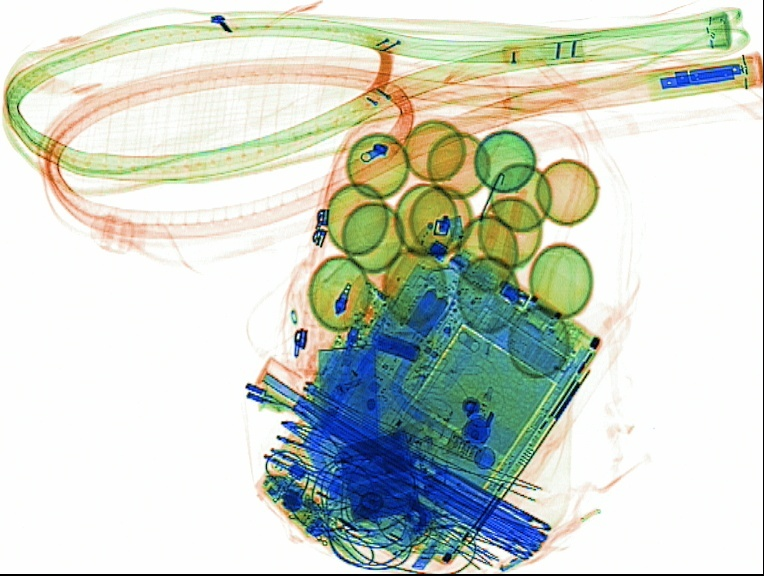powerbank: (332, 424, 428, 527)
